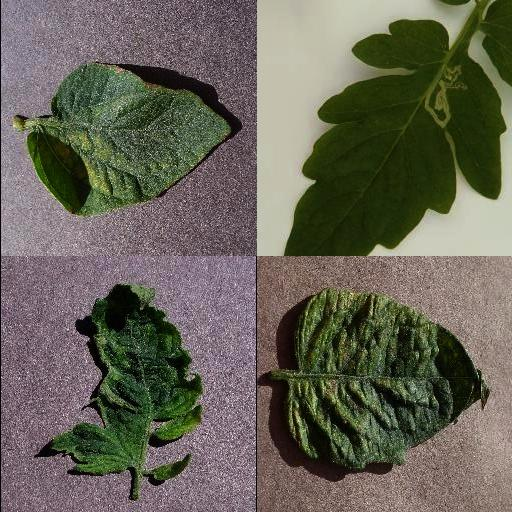Leaf Miner: (283, 16, 506, 256)
Mosaic Virus: (45, 283, 203, 475)
Spider Mites: (287, 291, 489, 471), (25, 66, 231, 216)
